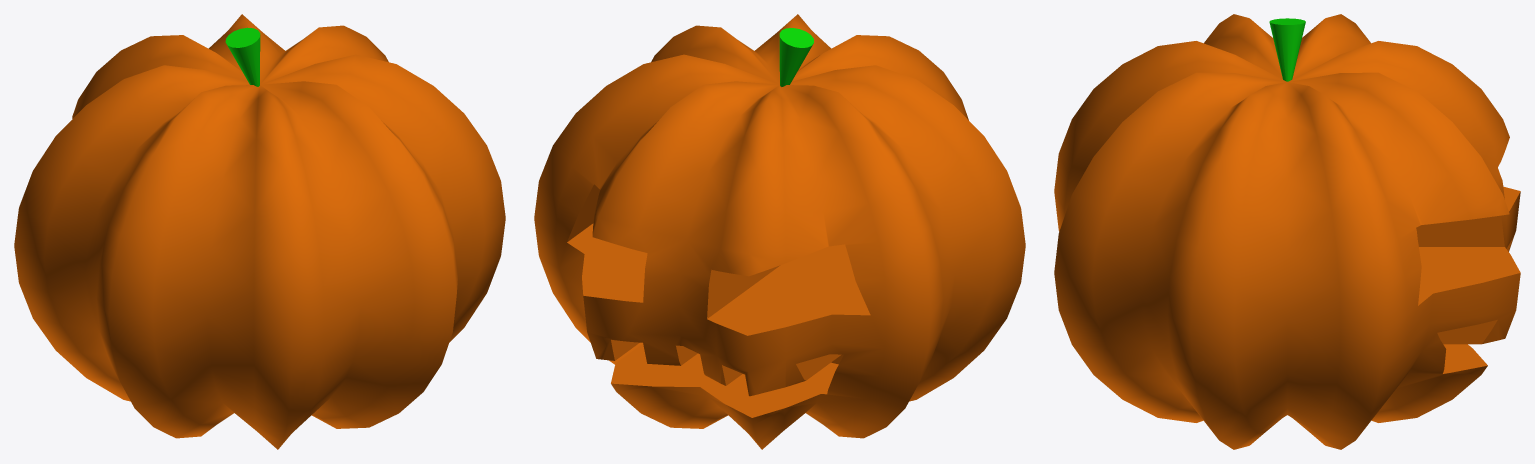
File: punpkin.fbx
3 renders of one model, left to right at view 1: azimuth 30°, elevation 25°; view 2: azimuth 150°, elevation 25°; view 3: azimuth 270°, elevation 25°, orthographic.
Visible parts, largest first — view 1: Sphere012; view 2: Sphere012; view 3: Sphere012.
Part boxes in pixels (box(x1,y1,x2,y2)): Sphere012: box(14, 14, 505, 449); Sphere012: box(534, 14, 1025, 449); Sphere012: box(1054, 14, 1520, 449).
Bounding box in the file's own units: 12.13 × 10.93 × 12.13.
